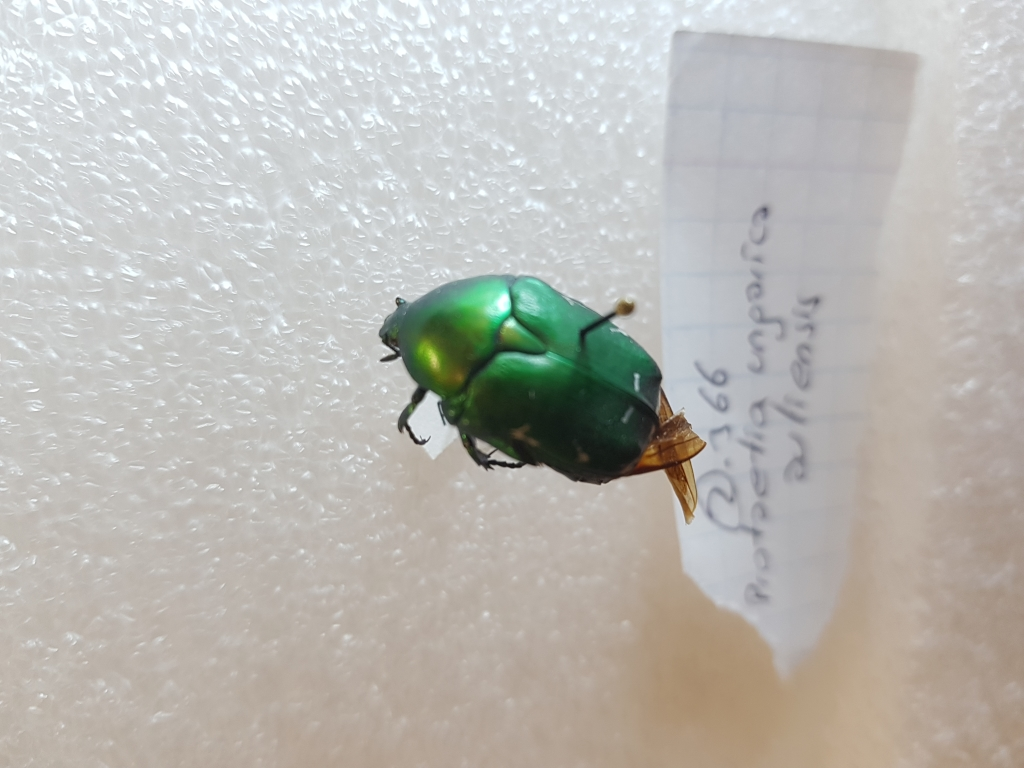Protaetia_ungarica_americana: (359, 266, 721, 546)
